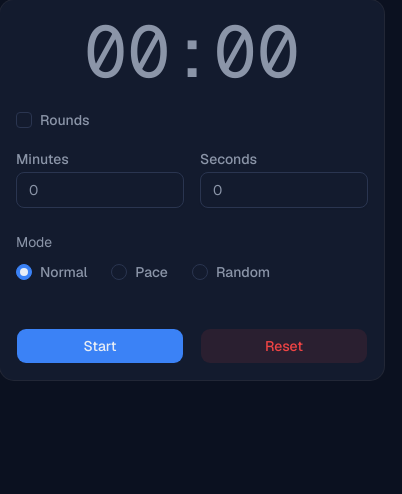
Timer › 4.4 pace input renders only in Pace mode
This screenshot has width=402, height=494.
Expected: the radio button named "Normal" next to "Normal" is checked, [16,264,32,280]
Expected: the field labelled "Pace (sec)" is not shown
What coordinates should you click on to do the following:
click the radio button named "Pace" next to "Pace"
I would click on:
 (119, 272)
Its box is [111,264,127,280].
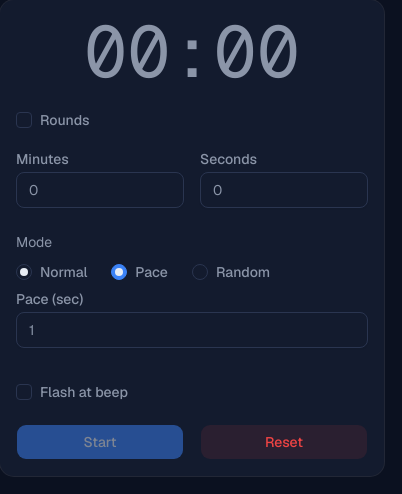
Result: the number field labelled "Pace (sec)" is enabled at [16,312,368,348]
